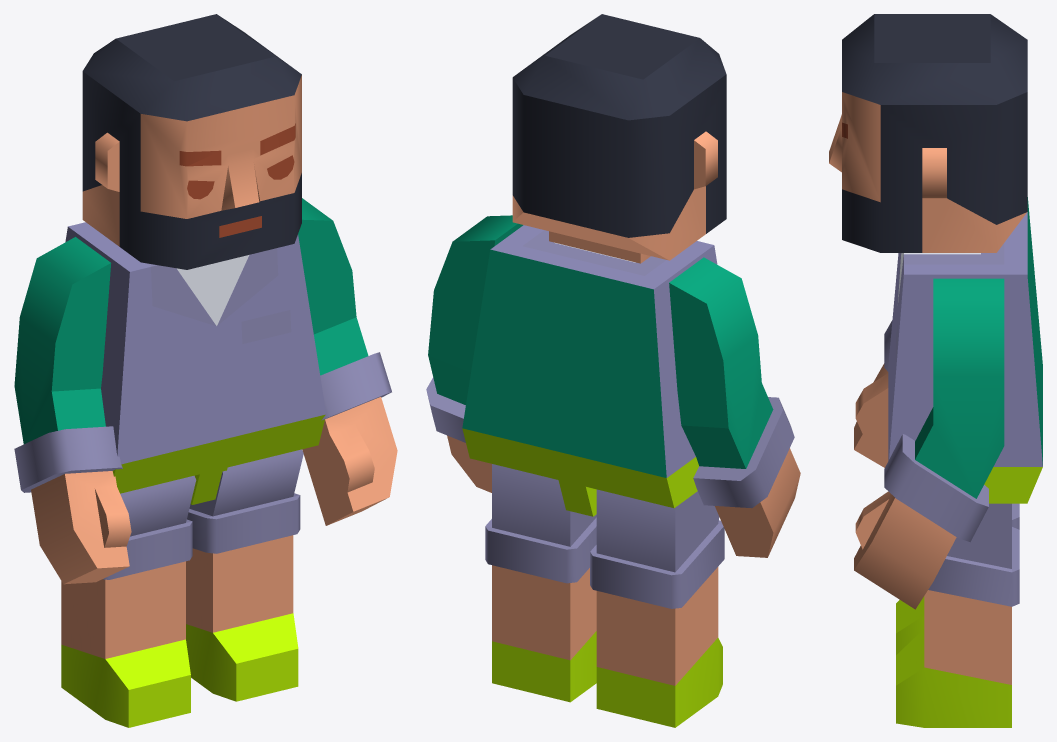
The model's file is man.fbx.
3 views of the same model, side by side, from view 1: azimuth 30°, elevation 25°; view 2: azimuth 150°, elevation 25°; view 3: azimuth 270°, elevation 25° (orthographic). The views are drawn at different scales.
Parts seen in each view (by area): view 1: mergedBlocks; view 2: mergedBlocks; view 3: mergedBlocks.
Boxes of the visible parts, left/top/right/bottom form: mergedBlocks: left=14, top=14, right=397, bottom=727; mergedBlocks: left=426, top=14, right=800, bottom=727; mergedBlocks: left=829, top=14, right=1042, bottom=727.
Size of the model in its own units: 5.12 by 9.19 by 2.77.
